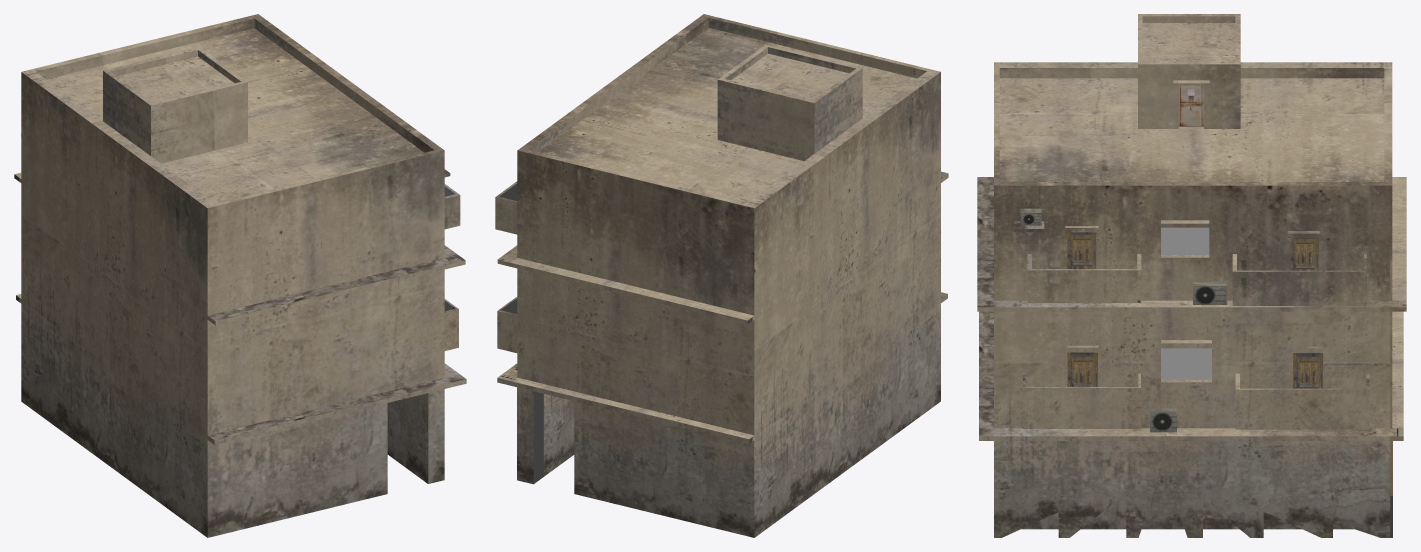
The picture shows the model from 3 angles, left to right: view 1: azimuth 30°, elevation 25°; view 2: azimuth 150°, elevation 25°; view 3: azimuth 270°, elevation 25°; orthographic projection. The views are drawn at different scales.
Parts seen in each view (by area): view 1: Component_2_1; view 2: Component_2_1; view 3: Component_2_1.
Part boxes in pixels (left/top/right/bottom): Component_2_1: left=14, top=14, right=466, bottom=537; Component_2_1: left=495, top=14, right=948, bottom=537; Component_2_1: left=977, top=14, right=1406, bottom=537.
Bounding box in the file's own units: 1007 × 1349 × 1293.
